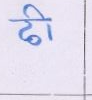o_matra: (26, 3, 57, 41)
